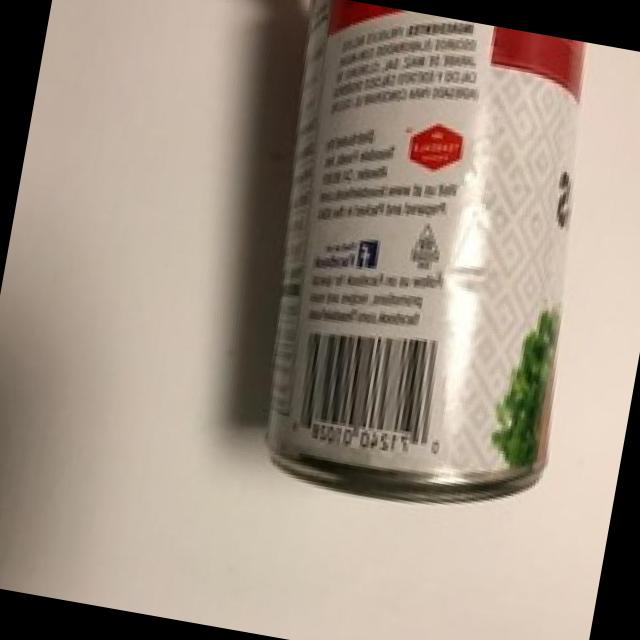Kaleng: (227, 0, 619, 525)
